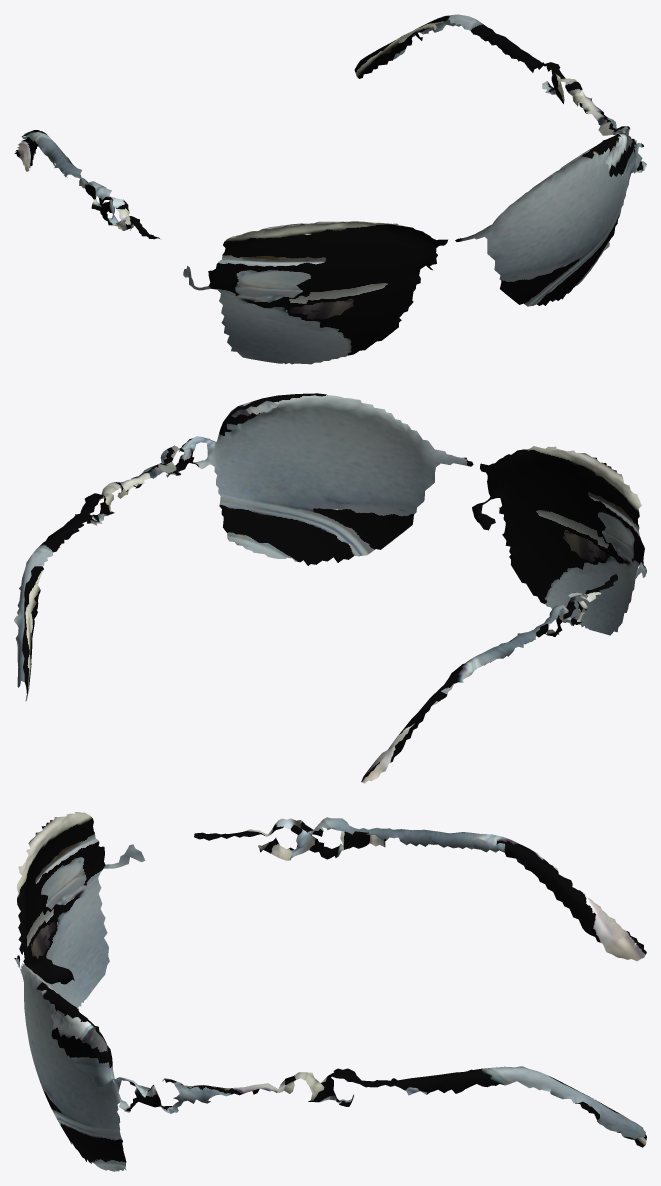
The model's file is scan_align.obj.
The picture shows the model from 3 angles, top to bottom: view 1: azimuth 30°, elevation 25°; view 2: azimuth 150°, elevation 25°; view 3: azimuth 270°, elevation 25°; orthographic projection. The views are drawn at different scales.
Size of the model in its own units: 0.1499 by 0.0475 by 0.1512.
